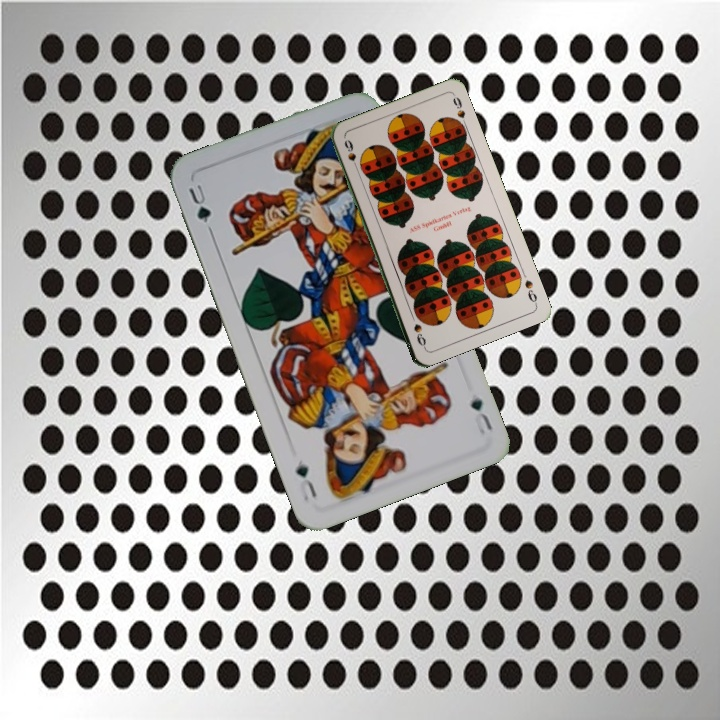GU: (184, 180, 214, 226), (466, 393, 495, 438)
S9: (340, 135, 361, 174), (520, 276, 540, 307)
